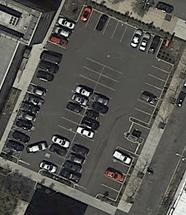parkingspot: (57, 65, 125, 185), (38, 56, 105, 177), (12, 14, 78, 134), (76, 4, 164, 60), (128, 56, 174, 126), (96, 148, 135, 202), (3, 128, 30, 155), (116, 136, 141, 155)
